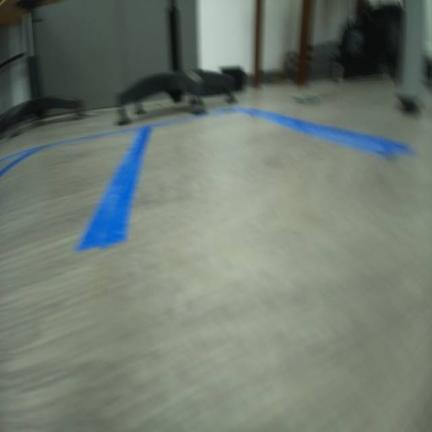place: (75, 103, 413, 251), (0, 120, 154, 271)
